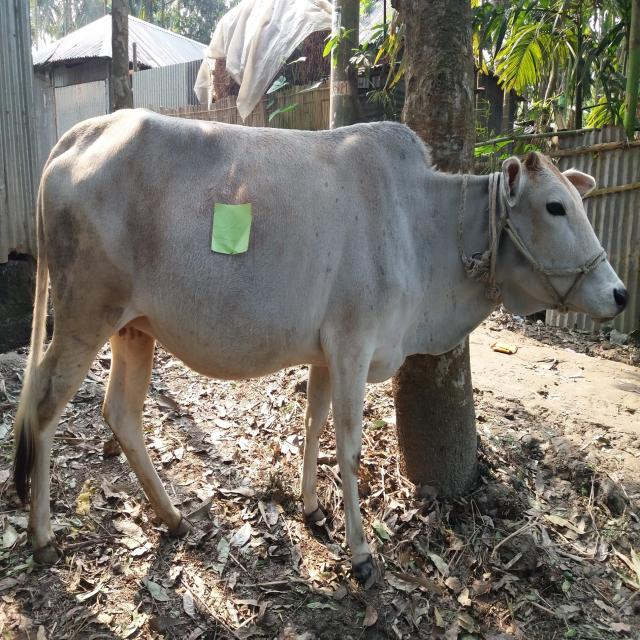badan_sapi: (58, 110, 378, 379)
sapi: (5, 92, 633, 586)
